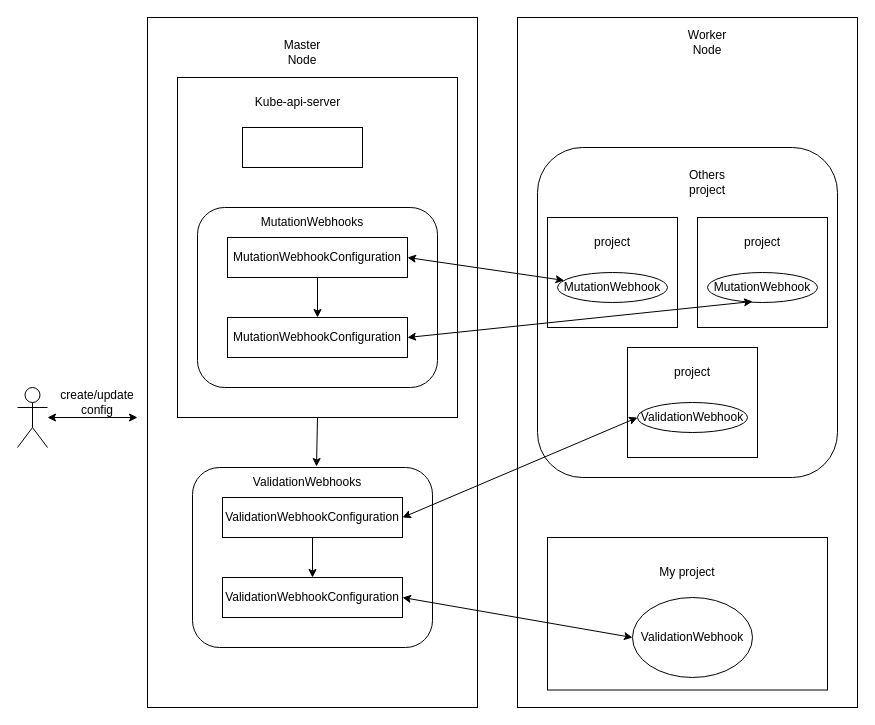
Image size: 875x725. Some labels were removed from this diagram. The centre of each missing label's shape, as x and y in pixels:
Actor: point (32, 417)
Authorization: point (302, 147)
